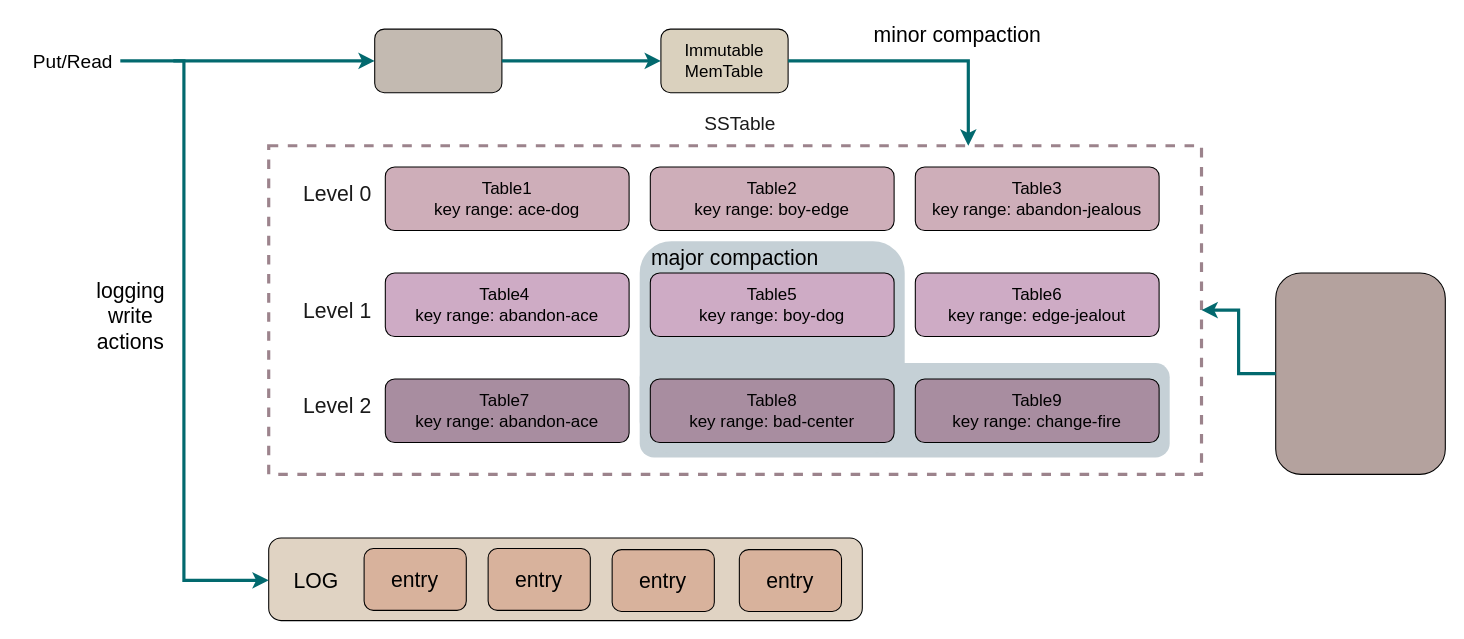
Image size: 1464x639. Some labels were removed from this diagram. Here are the shapes that lost their labels. From the top down, the centre of each, then its label:
At (438,60): "MemTable".
At (1360,373): "Manifest level0: ... level1: ... level2: ...".
